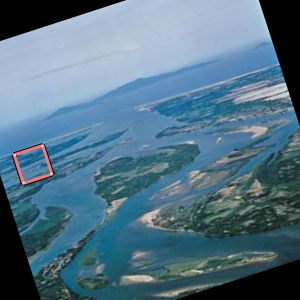square: (10, 141, 55, 186)
